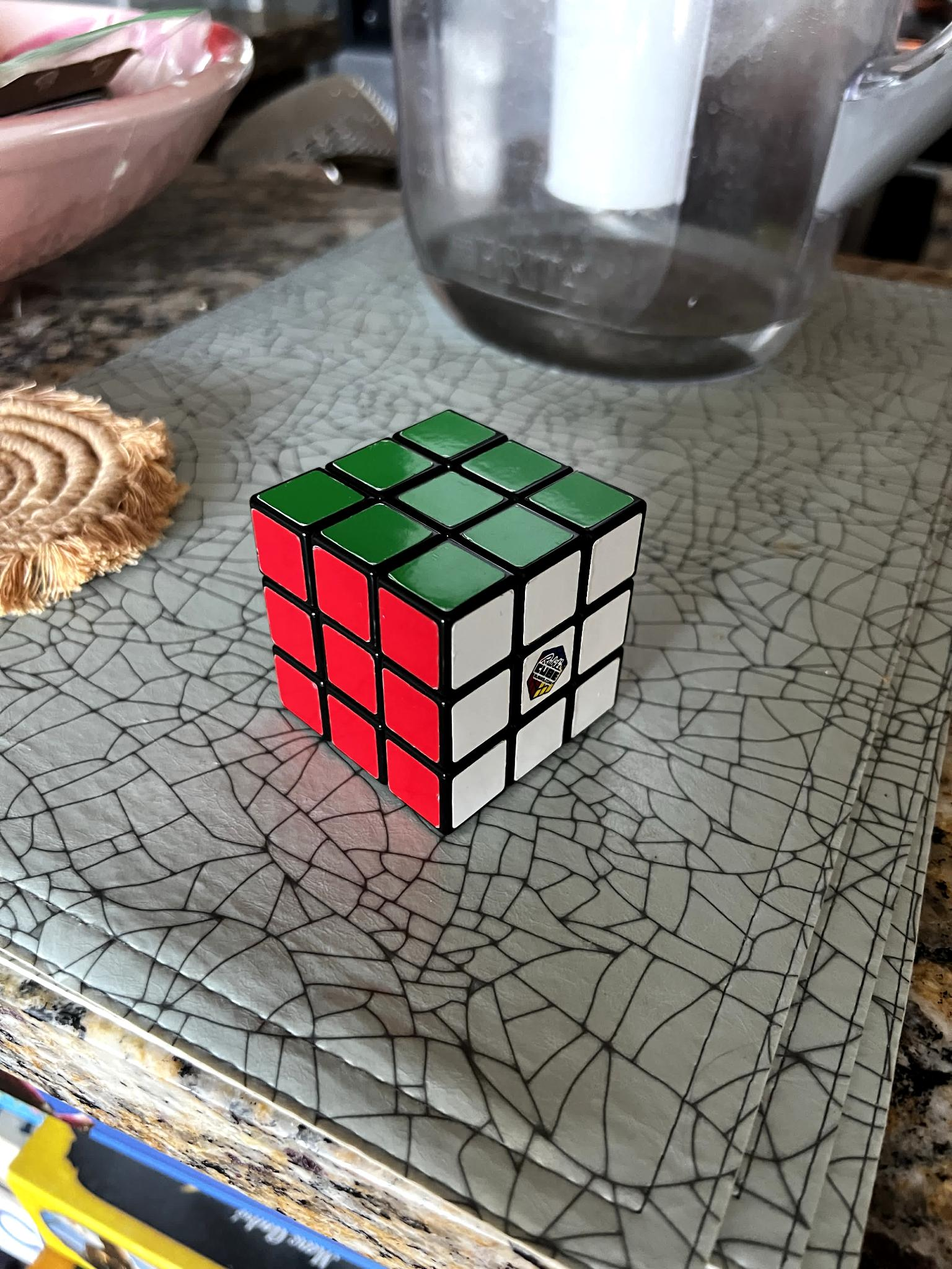rubiks_cube: (253, 409, 642, 828)
